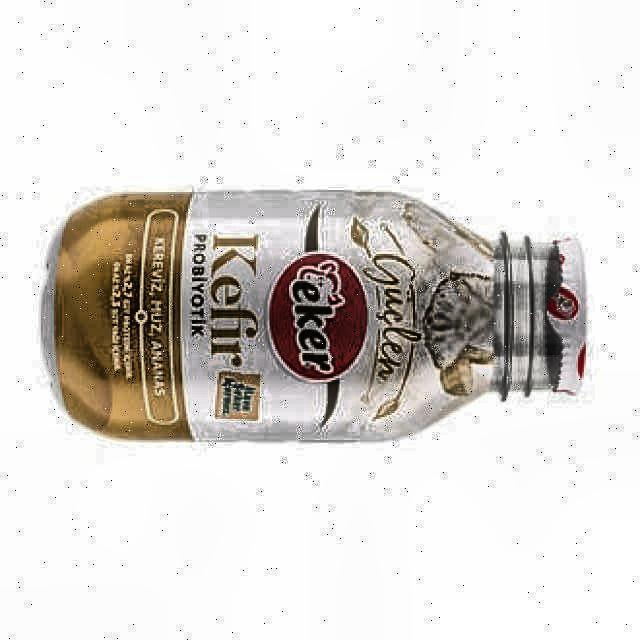plastic: (42, 189, 586, 443)
